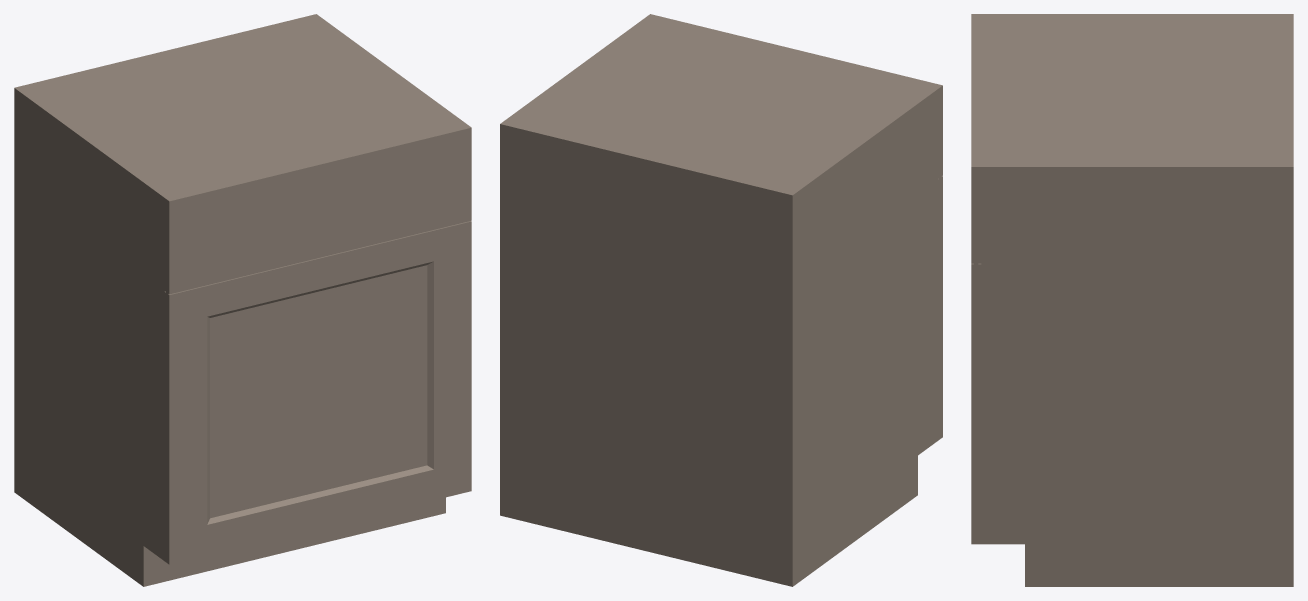
Rendered from Base-Cabinet-Single-Door_W27in_2D.glb.
The picture shows the model from 3 angles, left to right: view 1: azimuth 30°, elevation 25°; view 2: azimuth 150°, elevation 25°; view 3: azimuth 270°, elevation 25°; orthographic projection. The views are drawn at different scales.
Parts seen in each view (by area): view 1: Base-Cabinet-Single-Door_W27in_2D; view 2: Base-Cabinet-Single-Door_W27in_2D; view 3: Base-Cabinet-Single-Door_W27in_2D.
Boxes of the visible parts, <box> form: Base-Cabinet-Single-Door_W27in_2D: <box>14,14,471,586</box>; Base-Cabinet-Single-Door_W27in_2D: <box>500,14,942,586</box>; Base-Cabinet-Single-Door_W27in_2D: <box>971,14,1293,586</box>.
Bounding box in the file's own units: 0.6858 × 0.8769 × 0.61.
